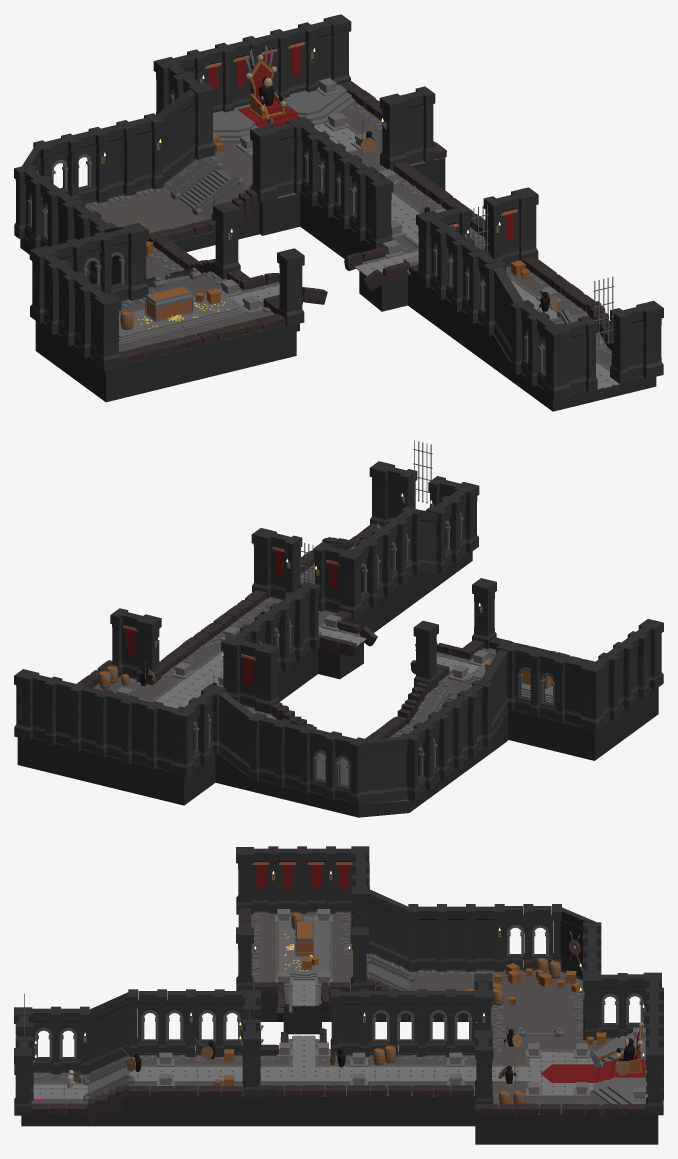
Rendered from fast-dungeon_warkarma.glb.
The picture shows the model from 3 angles, top to bottom: view 1: azimuth 30°, elevation 25°; view 2: azimuth 150°, elevation 25°; view 3: azimuth 270°, elevation 25°; orthographic projection. The views are drawn at different scales.
Parts seen in each view (by area): view 1: Floor_Floor_02_0, Floor_Floor_01_0, P_Steps_P_Steps_0, Window.030_Wall_Dark_Blue_0, P_Treasure_Tile_Border_0, Column.001_Wall_Dark_Blue_0, Steps.001_Steps_0, Column.025_Wall_Dark_Blue_0, Column.004_Wall_Dark_Blue_0, Column.005_Wall_Dark_Blue_0, Floor_Stone.050_Floor_Stone_0, Column.024_Wall_Dark_Blue_0 (+54 smaller); view 2: Floor_Floor_02_0, Floor_Floor_01_0, Window.027_Wall_Dark_Blue_0, Window.030_Wall_Dark_Blue_0, Column.016_Wall_Dark_Blue_0, Column.026_Wall_Dark_Blue_0, Column.012_Wall_Dark_Blue_0, Column.005_Wall_Dark_Blue_0, Column.007_Wall_Dark_Blue_0, Column.022_Wall_Dark_Blue_0, Column.010_Wall_Dark_Blue_0, Column.024_Wall_Dark_Blue_0 (+63 smaller); view 3: Floor_Floor_02_0, Floor_Floor_01_0, Floor_Stone.050_Floor_Stone_0, Window.013_Wall_Dark_Blue_0, Window.031_Wall_Dark_Blue_0, P_Treasure_Tile_Border_0, P_Steps_P_Steps_0, Rug_Cloth_Red_0, Window.029_Wall_Dark_Blue_0, Window.008_Wall_Dark_Blue_0, Window.009_Wall_Dark_Blue_0, Window.042_Wall_Dark_Blue_0 (+52 smaller).
Boxes of the visible parts, left/top/right/bottom form: Floor_Floor_02_0: left=20, top=158, right=656, bottom=411; Floor_Floor_01_0: left=85, top=102, right=611, bottom=380; P_Steps_P_Steps_0: left=213, top=84, right=355, bottom=142; Window.030_Wall_Dark_Blue_0: left=156, top=89, right=195, bottom=183; P_Treasure_Tile_Border_0: left=119, top=293, right=246, bottom=343; Column.001_Wall_Dark_Blue_0: left=578, top=308, right=629, bottom=391; Steps.001_Steps_0: left=170, top=159, right=244, bottom=215; Column.025_Wall_Dark_Blue_0: left=93, top=293, right=121, bottom=371; Column.004_Wall_Dark_Blue_0: left=543, top=323, right=571, bottom=401; Column.005_Wall_Dark_Blue_0: left=510, top=300, right=549, bottom=386; Floor_Stone.050_Floor_Stone_0: left=85, top=105, right=641, bottom=378; Column.024_Wall_Dark_Blue_0: left=277, top=248, right=304, bottom=326; Floor_Floor_02_0: left=17, top=551, right=658, bottom=817; Floor_Floor_01_0: left=93, top=564, right=579, bottom=803; Window.027_Wall_Dark_Blue_0: left=360, top=736, right=408, bottom=804; Window.030_Wall_Dark_Blue_0: left=218, top=691, right=254, bottom=777; Column.016_Wall_Dark_Blue_0: left=170, top=706, right=195, bottom=777; Column.026_Wall_Dark_Blue_0: left=580, top=661, right=605, bottom=732; Column.012_Wall_Dark_Blue_0: left=254, top=643, right=279, bottom=714; Column.005_Wall_Dark_Blue_0: left=426, top=495, right=461, bottom=574; Column.007_Wall_Dark_Blue_0: left=338, top=549, right=363, bottom=619; Column.022_Wall_Dark_Blue_0: left=413, top=620, right=438, bottom=691; Column.010_Wall_Dark_Blue_0: left=136, top=614, right=161, bottom=685; Column.024_Wall_Dark_Blue_0: left=472, top=578, right=496, bottom=648; Floor_Floor_02_0: left=21, top=992, right=658, bottom=1144; Floor_Floor_01_0: left=32, top=912, right=626, bottom=1114; Floor_Stone.050_Floor_Stone_0: left=34, top=911, right=607, bottom=1109; Window.013_Wall_Dark_Blue_0: left=88, top=992, right=129, bottom=1072; Window.031_Wall_Dark_Blue_0: left=368, top=889, right=409, bottom=969; P_Treasure_Tile_Border_0: left=279, top=916, right=328, bottom=980; P_Steps_P_Steps_0: left=593, top=1032, right=646, bottom=1104; Rug_Cloth_Red_0: left=540, top=1059, right=645, bottom=1082; Window.029_Wall_Dark_Blue_0: left=474, top=906, right=495, bottom=970; Window.008_Wall_Dark_Blue_0: left=445, top=906, right=466, bottom=970; Window.009_Wall_Dark_Blue_0: left=417, top=906, right=438, bottom=970; Window.042_Wall_Dark_Blue_0: left=339, top=991, right=360, bottom=1055.
Bounding box in the file's own units: 28.08 × 6.66 × 36.83.
